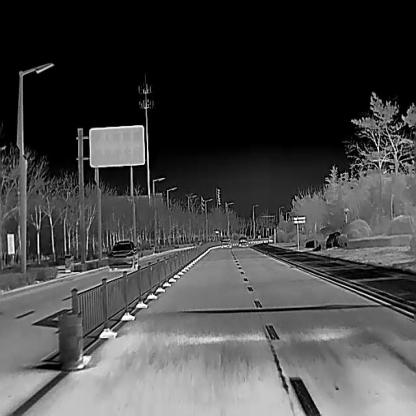car: (107, 239, 138, 270), (220, 238, 232, 248), (238, 236, 248, 247)
